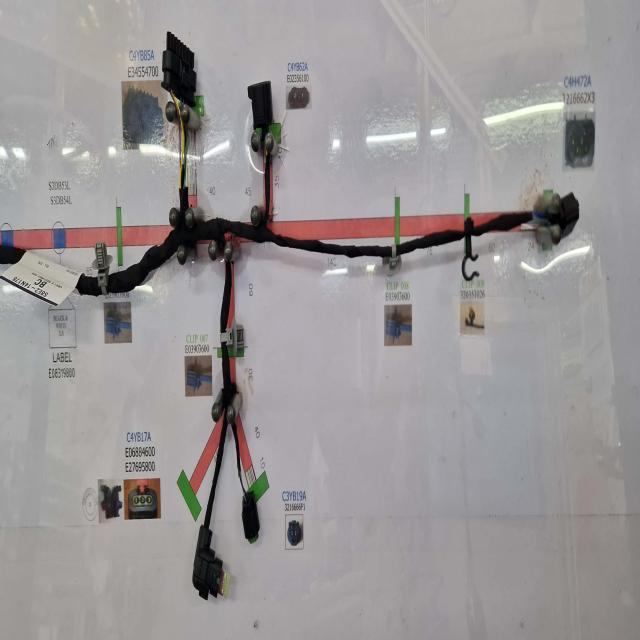Clip: (226, 325, 250, 366), (94, 239, 112, 293), (462, 233, 480, 282), (383, 242, 403, 278), (472, 201, 481, 236)
Connector: (161, 28, 196, 104), (192, 526, 223, 602), (247, 82, 273, 133), (242, 491, 260, 545), (560, 193, 580, 240)
Gape: (175, 90, 191, 181), (532, 207, 562, 231), (262, 128, 273, 167), (232, 475, 250, 497)
Info: (0, 255, 79, 309)
MHEV_N11_Cable: (78, 183, 251, 540), (248, 154, 541, 261)
